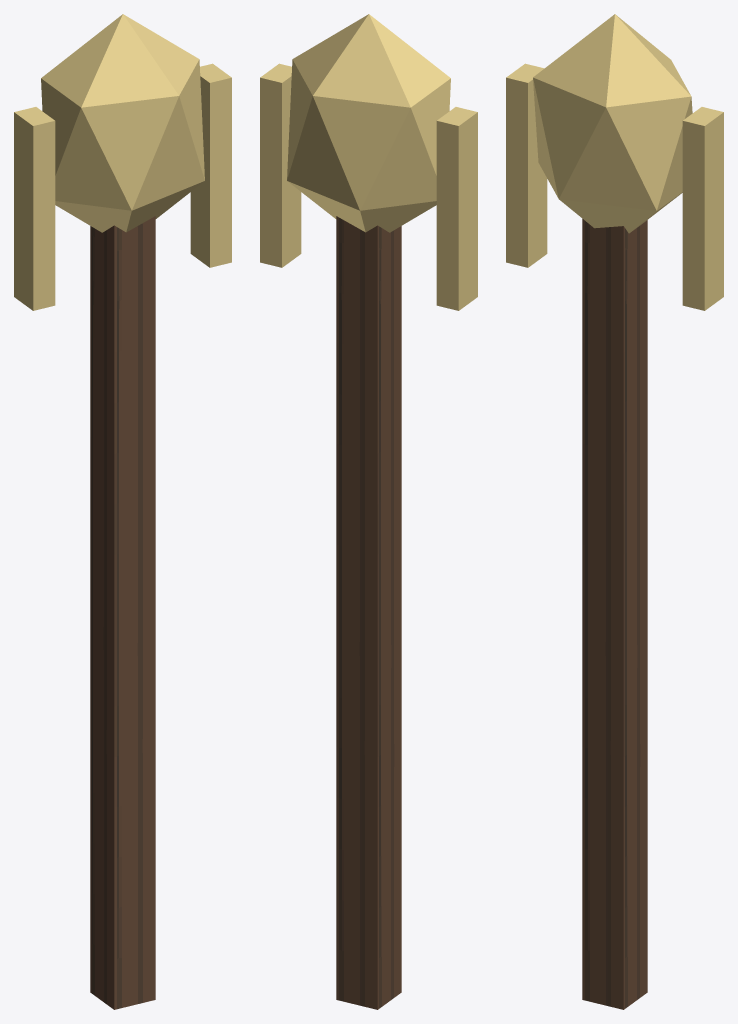
File: staff_tier1.glb
3 renders of one model, left to right at view 1: azimuth 30°, elevation 25°; view 2: azimuth 150°, elevation 25°; view 3: azimuth 330°, elevation 25°, orthographic.
Visible parts, largest first — view 1: Shaft, Crown, Prong, Prong.001; view 2: Shaft, Crown, Prong, Prong.001; view 3: Shaft, Crown, Prong.001, Prong.
Boxes of the visible parts, x1,y1,x2,y2 form: Shaft: (90,216,155,1009); Crown: (41,14,204,232); Prong: (14,107,55,310); Prong.001: (190,63,231,267); Shaft: (336,216,401,1009); Crown: (287,14,450,232); Prong: (436,107,477,310); Prong.001: (260,63,301,267); Shaft: (582,219,647,1009); Crown: (533,14,692,233); Prong.001: (682,107,723,310); Prong: (506,63,547,267).
Size of the model in its own units: 0.36 by 1.7 by 0.2042.
2 materials, 1 textured.
